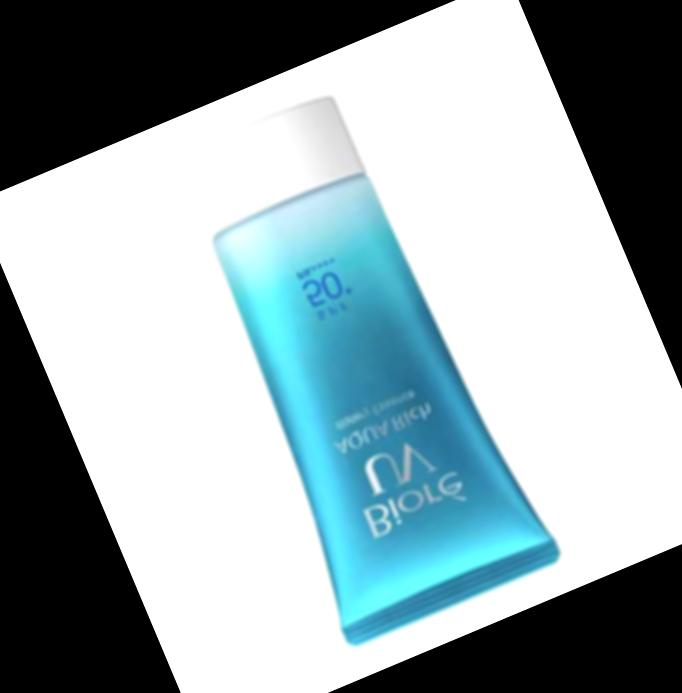cosmetic: (144, 76, 565, 651)
